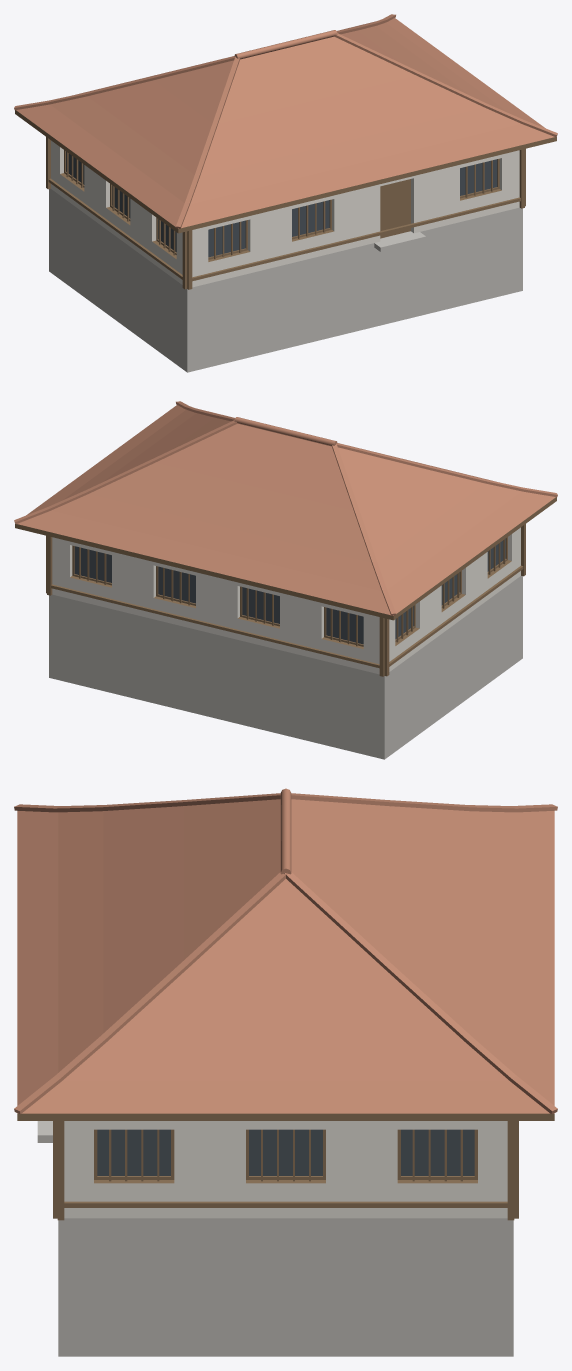
File: japanese_house_hipped_1_m.glb
3 renders of one model, top to bottom at view 1: azimuth 30°, elevation 25°; view 2: azimuth 150°, elevation 25°; view 3: azimuth 270°, elevation 25°, orthographic. The views are drawn at different scales.
Parts seen in each view (by area): view 1: japanese_house_hipped_1_m; view 2: japanese_house_hipped_1_m; view 3: japanese_house_hipped_1_m.
Boxes of the visible parts, left/top/right/bottom form: japanese_house_hipped_1_m: left=14, top=14, right=557, bottom=372; japanese_house_hipped_1_m: left=14, top=401, right=557, bottom=759; japanese_house_hipped_1_m: left=14, top=788, right=557, bottom=1356.
Bounding box in the file's own units: 15.95 × 9.53 × 11.95.
